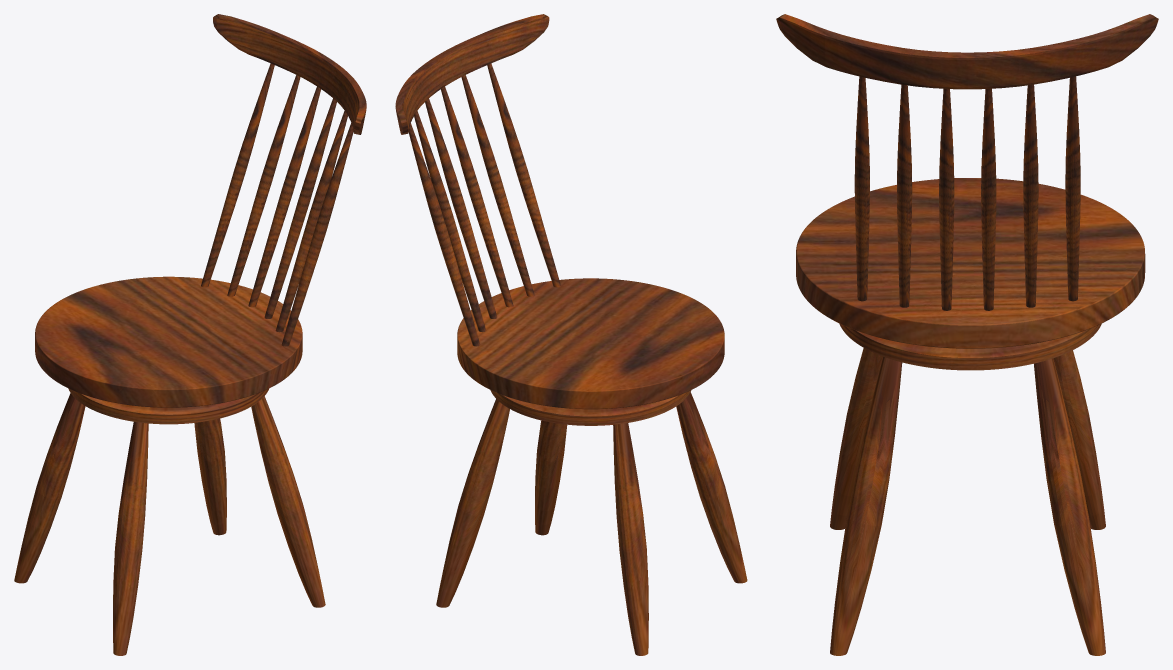
Rendered from chair.glb.
3 renders of one model, left to right at view 1: azimuth 30°, elevation 25°; view 2: azimuth 150°, elevation 25°; view 3: azimuth 270°, elevation 25°, orthographic. The views are drawn at different scales.
Visible parts, largest first — view 1: GN chair; view 2: GN chair; view 3: GN chair.
Part boxes in pixels (<box>): GN chair: <box>14,14,366,655</box>; GN chair: <box>395,14,747,655</box>; GN chair: <box>776,14,1158,655</box>.
Size of the model in its own units: 180 by 303 by 162.
1 material, 1 textured.
